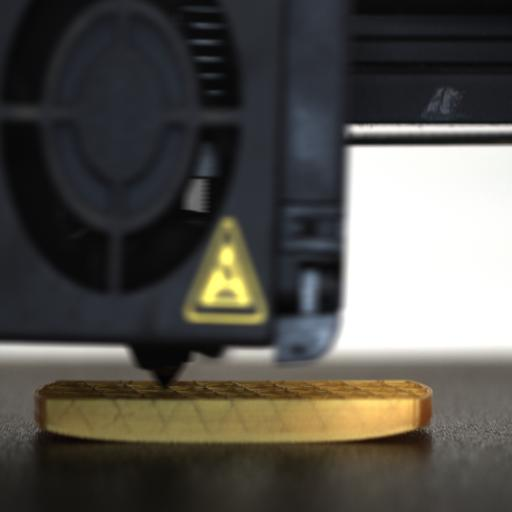warp: (364, 412, 437, 446), (30, 410, 99, 444)
